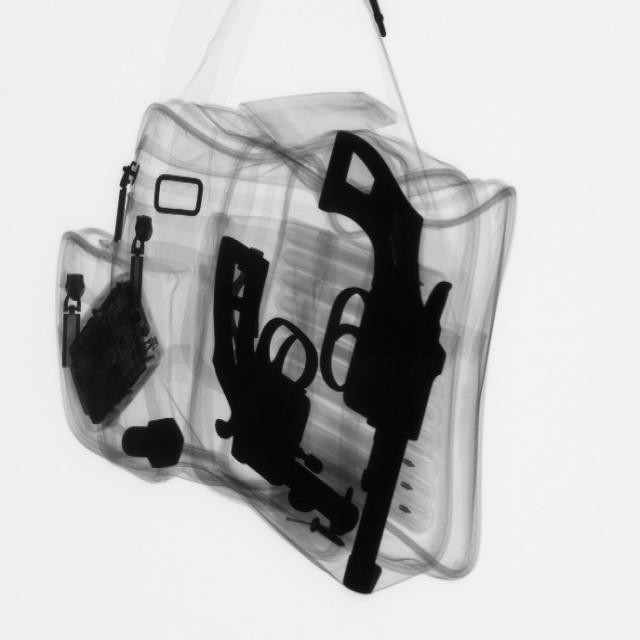GUN: (313, 125, 469, 624), (205, 231, 364, 579)
